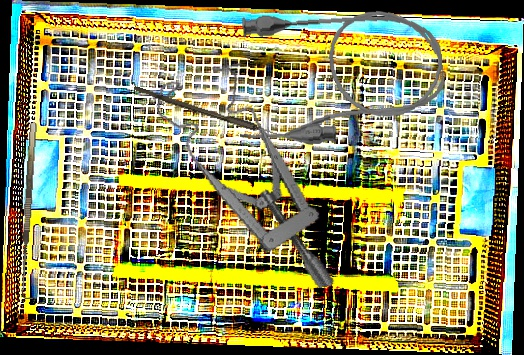Cannula: (229, 0, 449, 151)
Hook Surgical: (17, 122, 47, 300)
Speculum: (151, 52, 336, 312)
Surgical Spoon: (132, 86, 300, 144)
